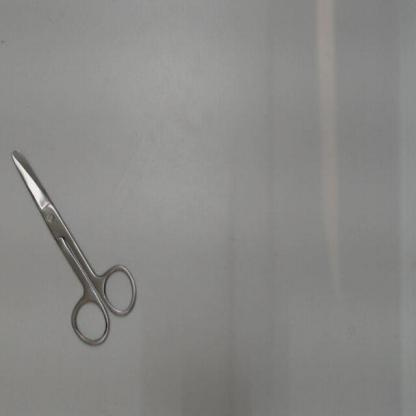Dressing Scissors: (3, 134, 146, 354)
